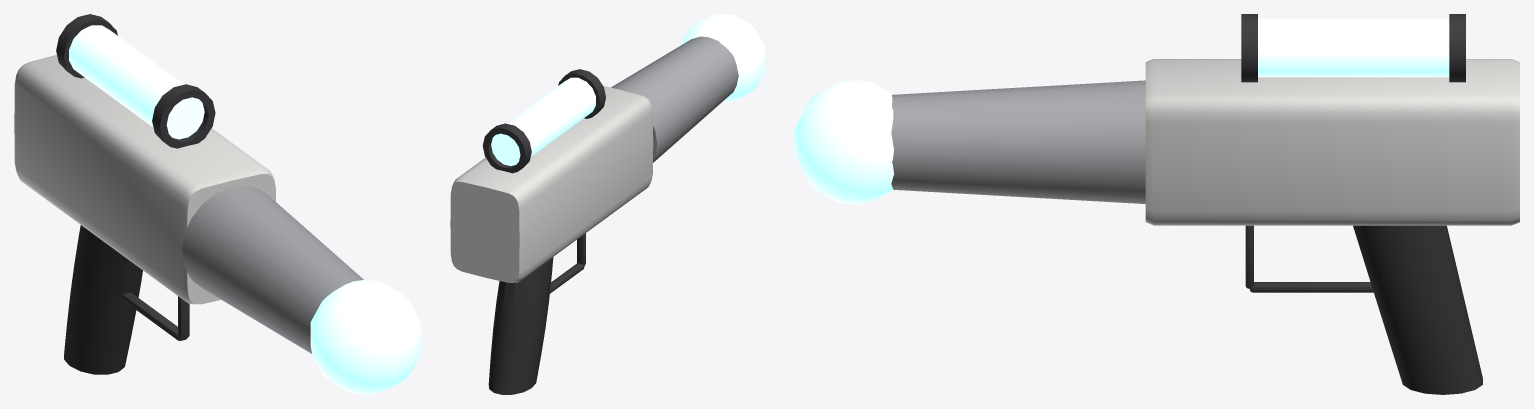
File: assistgun.glb
3 renders of one model, left to right at view 1: azimuth 30°, elevation 25°; view 2: azimuth 150°, elevation 25°; view 3: azimuth 270°, elevation 25°, orthographic. The views are drawn at different scales.
Visible parts, largest first — view 1: Body; view 2: Body; view 3: Body.
Part boxes in pixels (bbox=[...]): Body: bbox=[14, 14, 421, 394]; Body: bbox=[450, 14, 765, 394]; Body: bbox=[794, 14, 1519, 394].
Size of the model in its own units: 0.06 by 0.1936 by 0.3492.
